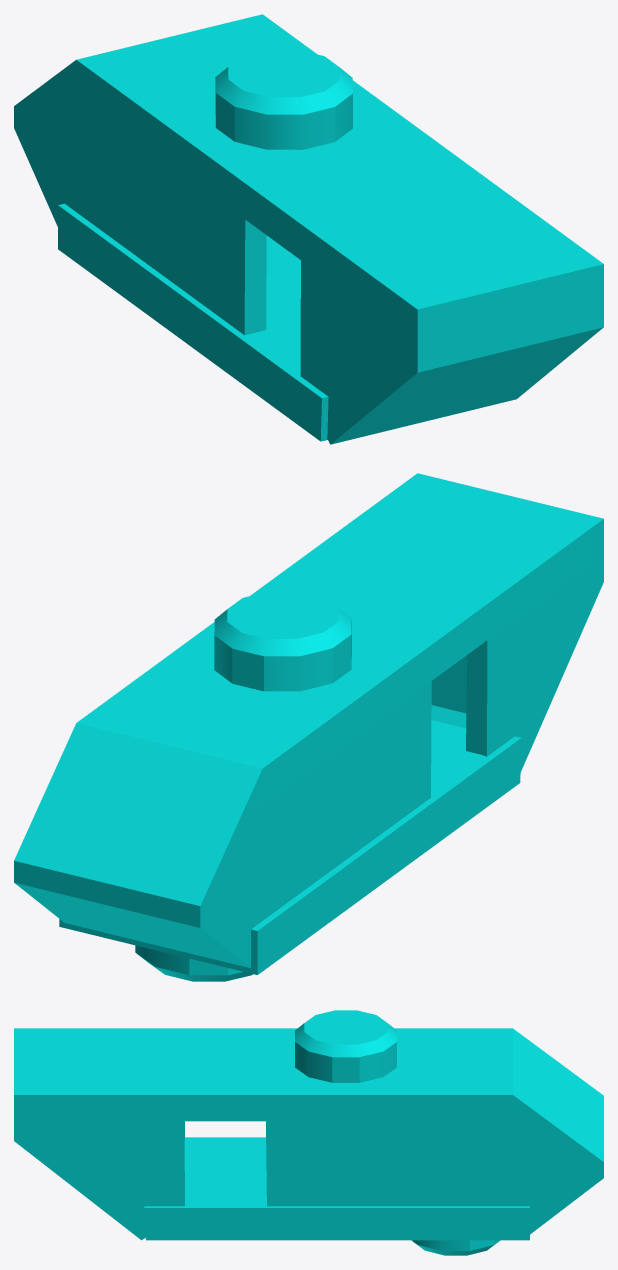
File: SM_Veh_Train_Middle_01_Collision.fbx
3 renders of one model, top to bottom at view 1: azimuth 30°, elevation 25°; view 2: azimuth 150°, elevation 25°; view 3: azimuth 270°, elevation 25°, orthographic. The views are drawn at different scales.
Parts seen in each view (by area): view 1: SM_Veh_Train_Middle_01_Collision; view 2: SM_Veh_Train_Middle_01_Collision; view 3: SM_Veh_Train_Middle_01_Collision.
Part boxes in pixels (<box>): SM_Veh_Train_Middle_01_Collision: <box>14,14,603,444</box>; SM_Veh_Train_Middle_01_Collision: <box>14,473,603,981</box>; SM_Veh_Train_Middle_01_Collision: <box>14,1010,603,1255</box>.
Bounding box in the file's own units: 361 × 500 × 1274.
